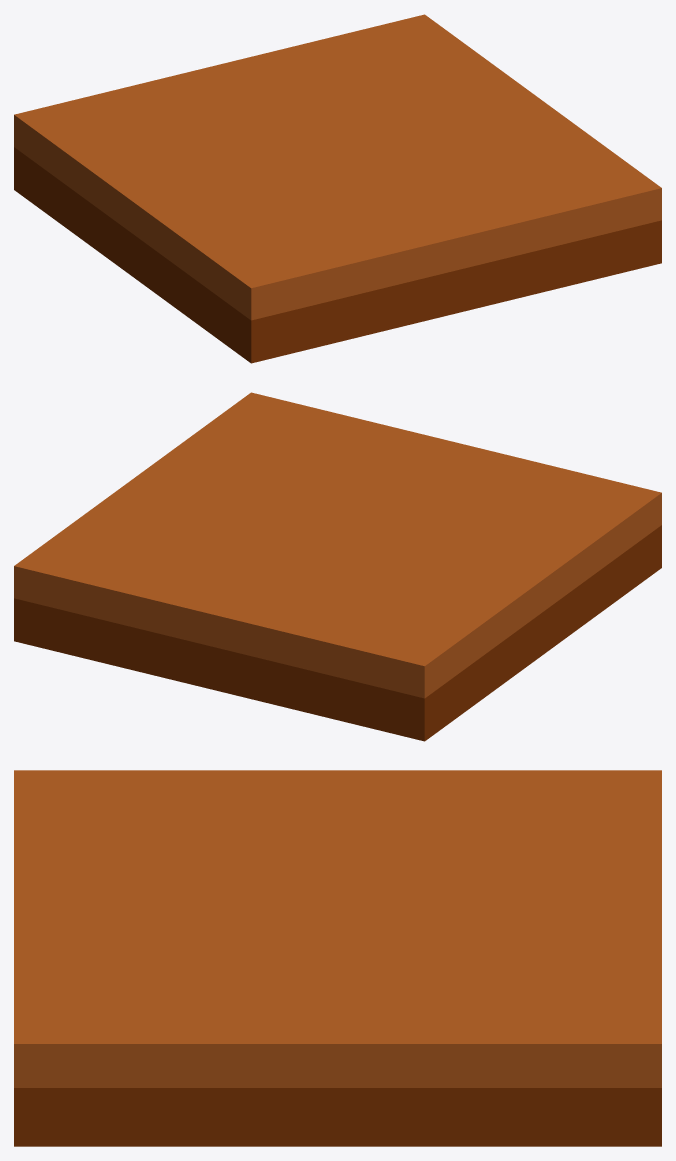
The model's file is TileGround_05.fbx.
3 views of the same model, one above another, from view 1: azimuth 30°, elevation 25°; view 2: azimuth 150°, elevation 25°; view 3: azimuth 270°, elevation 25° (orthographic). The views are drawn at different scales.
Parts seen in each view (by area): view 1: TileGround_05; view 2: TileGround_05; view 3: TileGround_05.
Part boxes in pixels (x1,y1,x2,y2): TileGround_05: [14, 14, 661, 363]; TileGround_05: [14, 392, 661, 741]; TileGround_05: [14, 770, 661, 1146].
Bounding box in the file's own units: 500 × 87.5 × 500.
